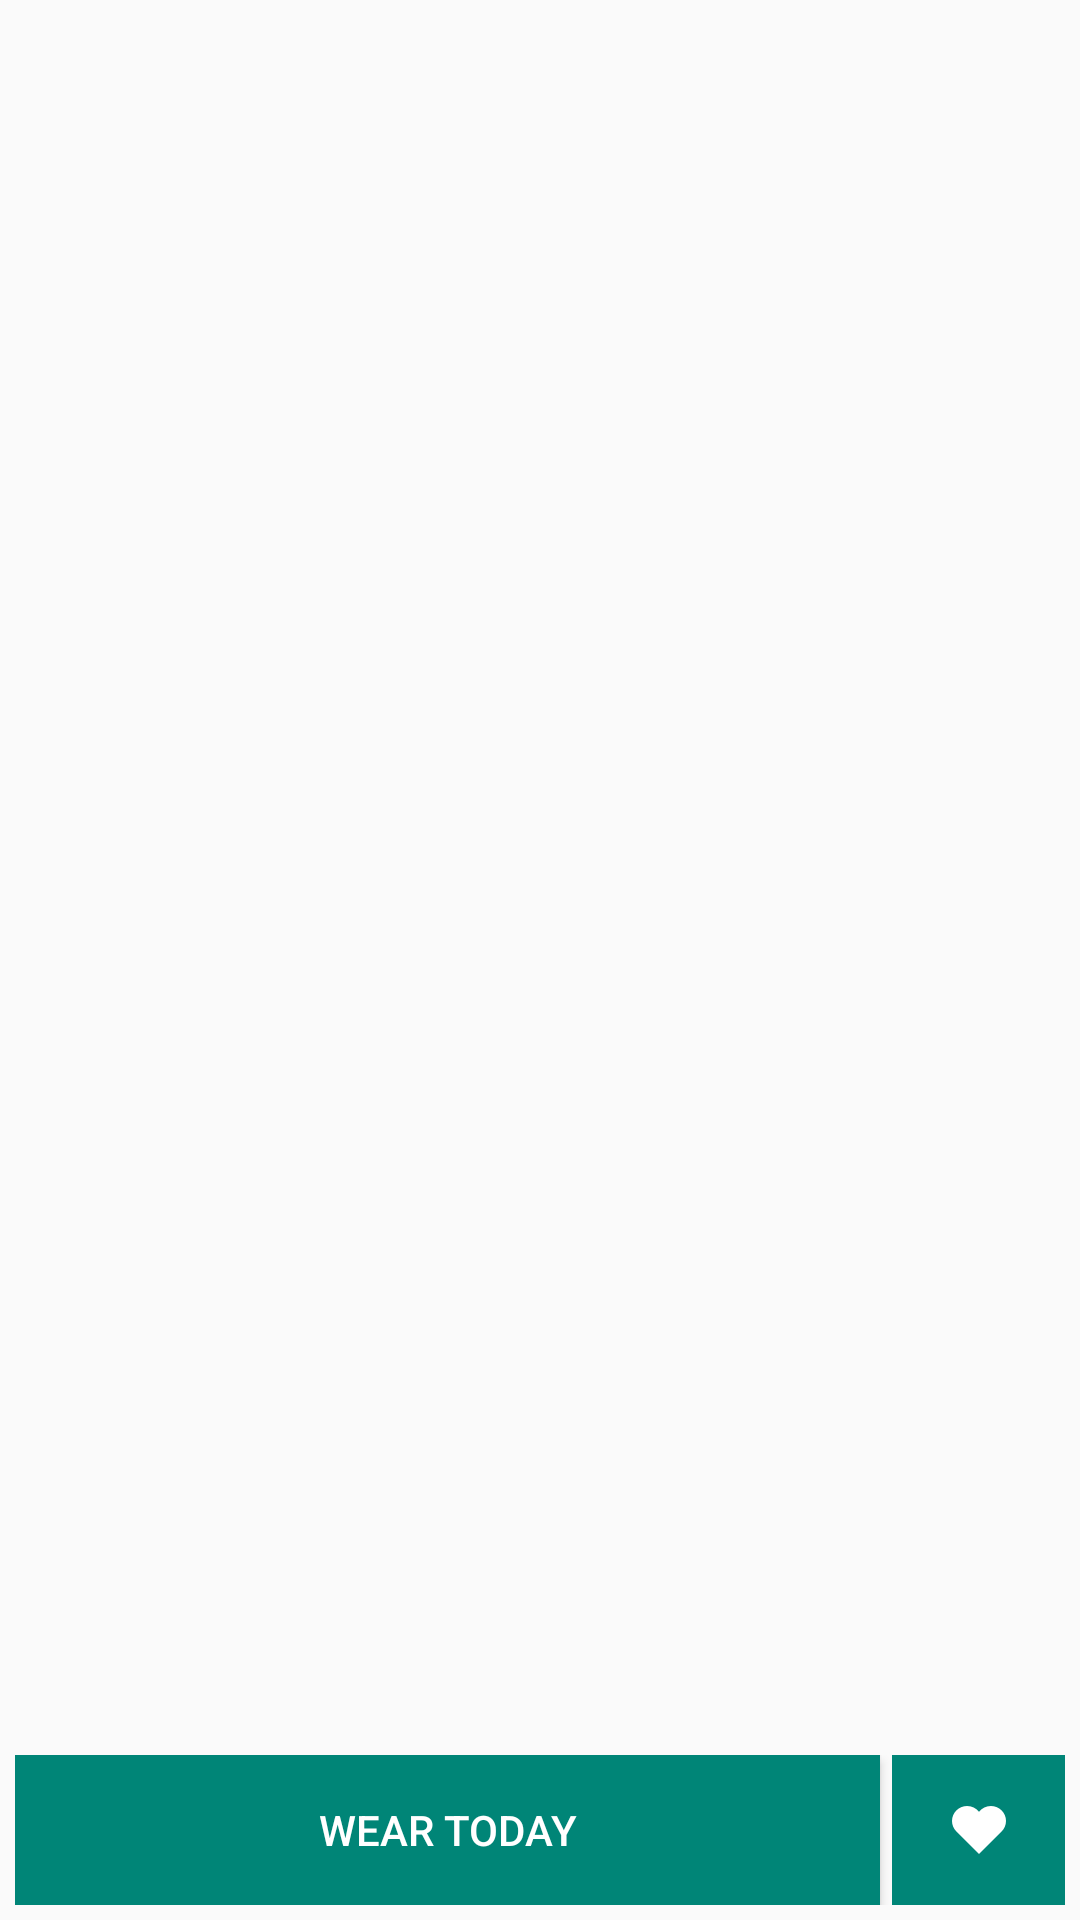

Icons on this 1080×1920 Android screen, each with its box as [x1, y1, x2, y2]:
heart: [892, 1755, 1065, 1905]
